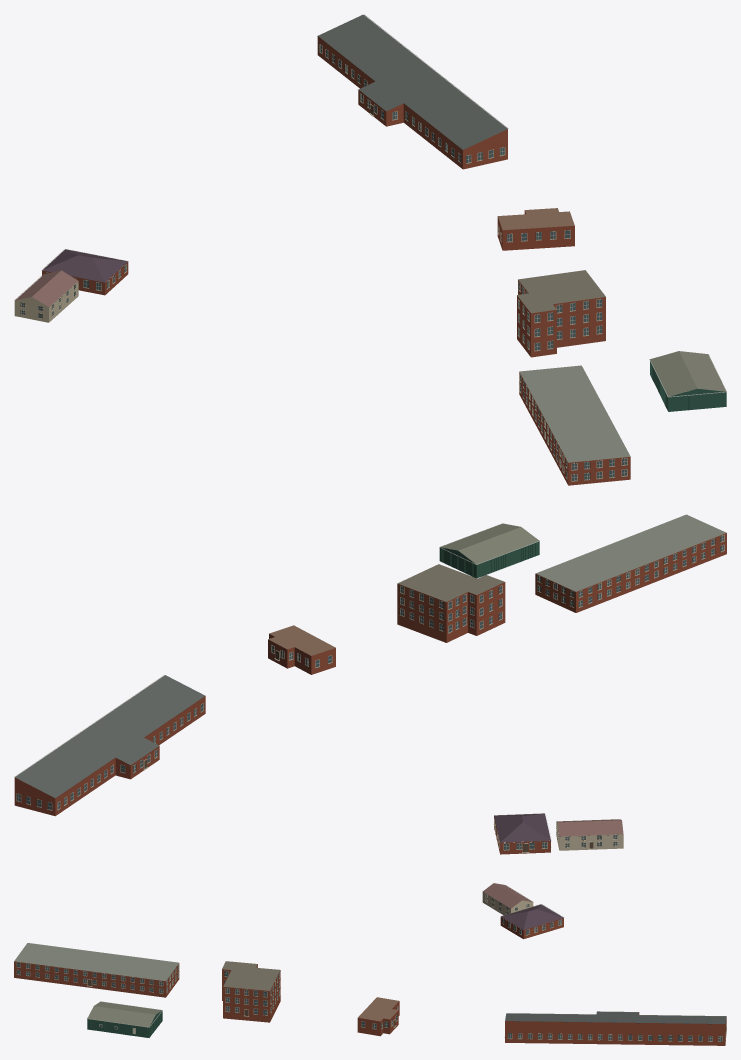
The picture shows the model from 3 angles, top to bottom: view 1: azimuth 30°, elevation 25°; view 2: azimuth 150°, elevation 25°; view 3: azimuth 270°, elevation 25°; orthographic projection. The views are drawn at different scales.
Parts seen in each view (by area): view 1: -3_1_272129190_1, -3_1_272129191_2, -3_1_272129478_3; view 2: -3_1_272129190_1, -3_1_272129191_2, -3_1_272129478_3; view 3: -3_1_272129190_1, -3_1_272129191_2, -3_1_272129478_3.
Boxes of the visible parts, <box> form: -3_1_272129190_1: <box>14,14,726,485</box>; -3_1_272129191_2: <box>649,354,726,411</box>; -3_1_272129478_3: <box>14,281,78,322</box>; -3_1_272129190_1: <box>14,514,726,854</box>; -3_1_272129191_2: <box>439,523,539,578</box>; -3_1_272129478_3: <box>556,822,623,850</box>; -3_1_272129190_1: <box>14,883,726,1045</box>; -3_1_272129191_2: <box>87,1001,162,1037</box>; -3_1_272129478_3: <box>482,892,533,915</box>.
Bounding box in the file's own units: 165 × 20.88 × 282.
